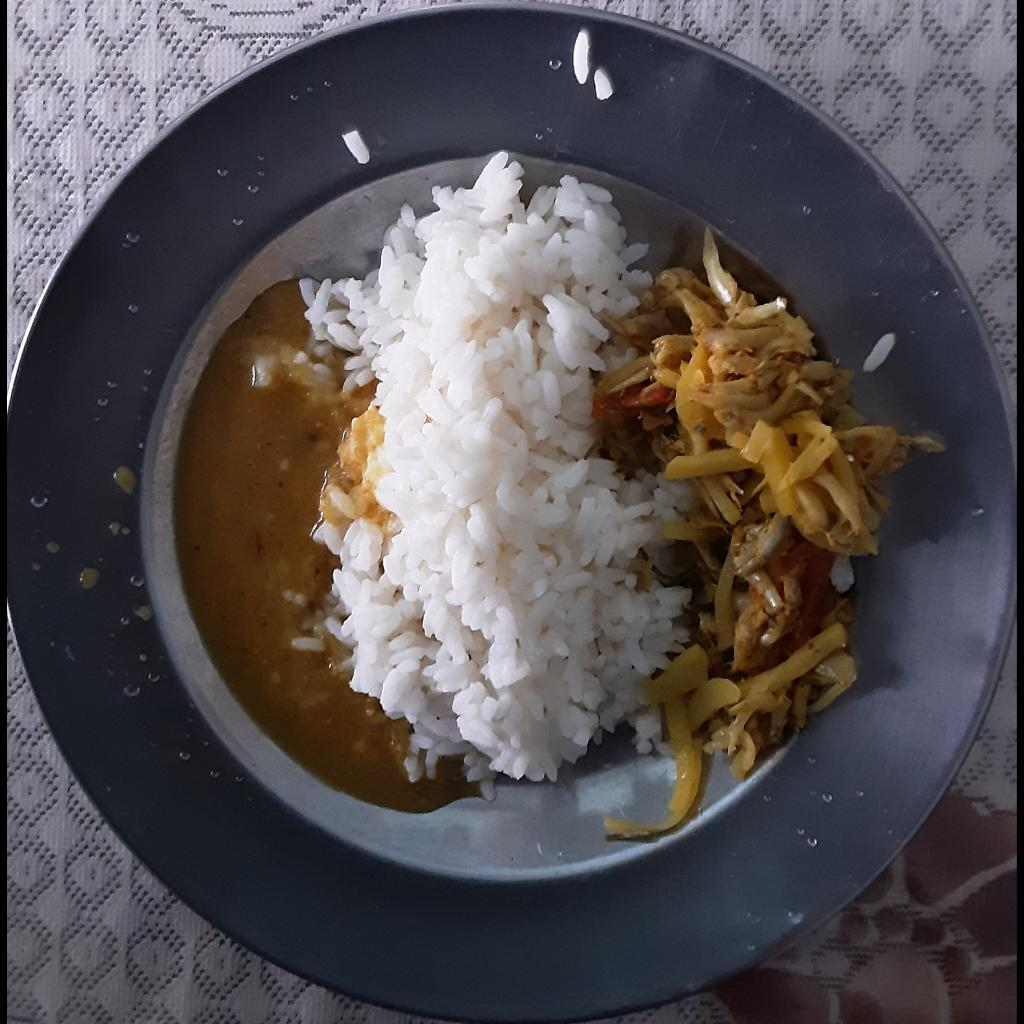daal: (172, 279, 470, 813)
fish: (607, 268, 858, 443), (732, 512, 811, 668), (700, 234, 746, 309)
potato: (604, 414, 940, 838)
rice: (253, 150, 701, 799)
